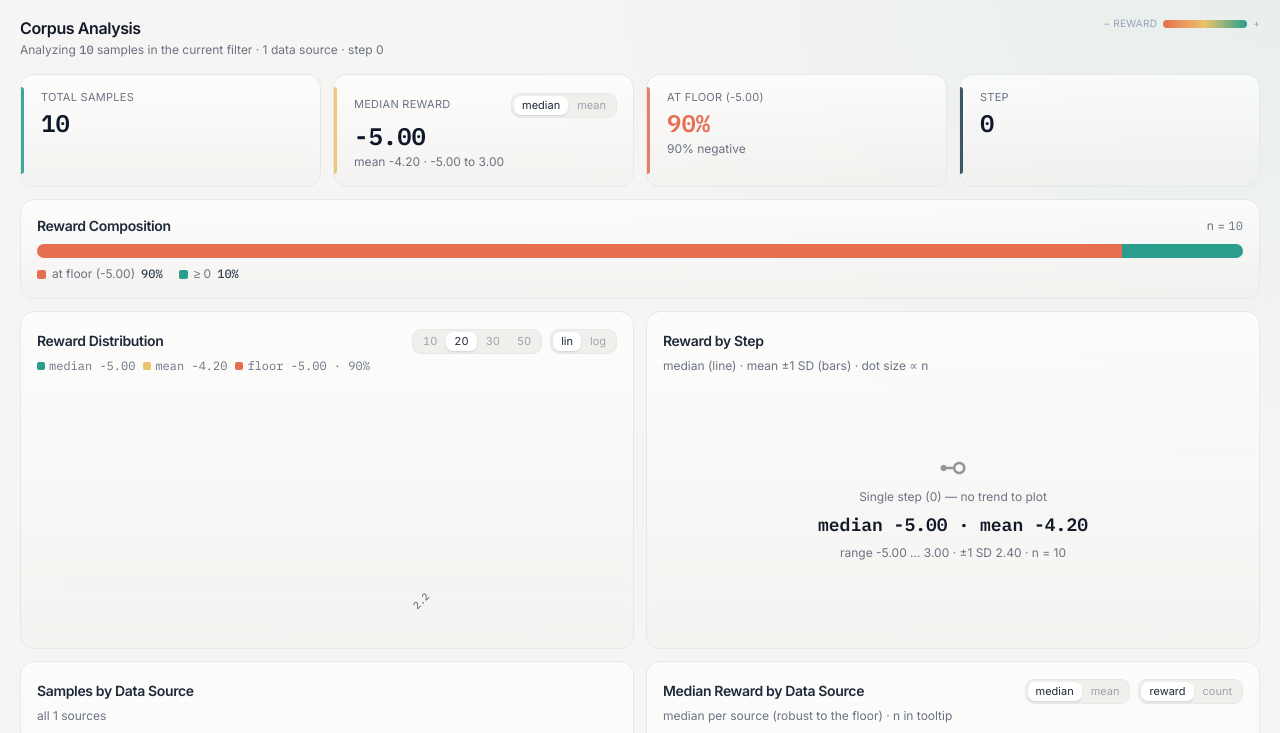
Test case: AnalysisView › toggles the log-scale control on the distribution
expect the text "log count axis" is not shown: met
Click the button titled "logarithmic" at (598, 341), box [582, 332, 614, 350]
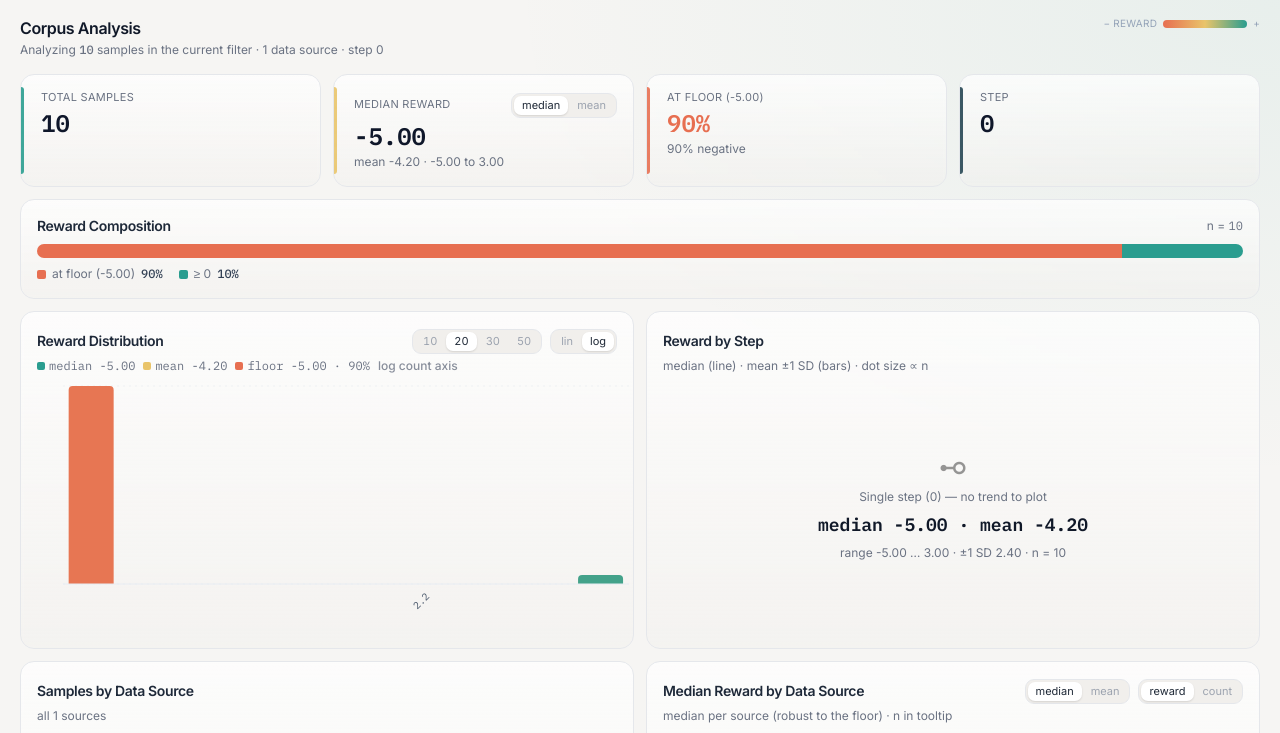
expect the text "log count axis" is shown: met, box [378, 358, 458, 374]
